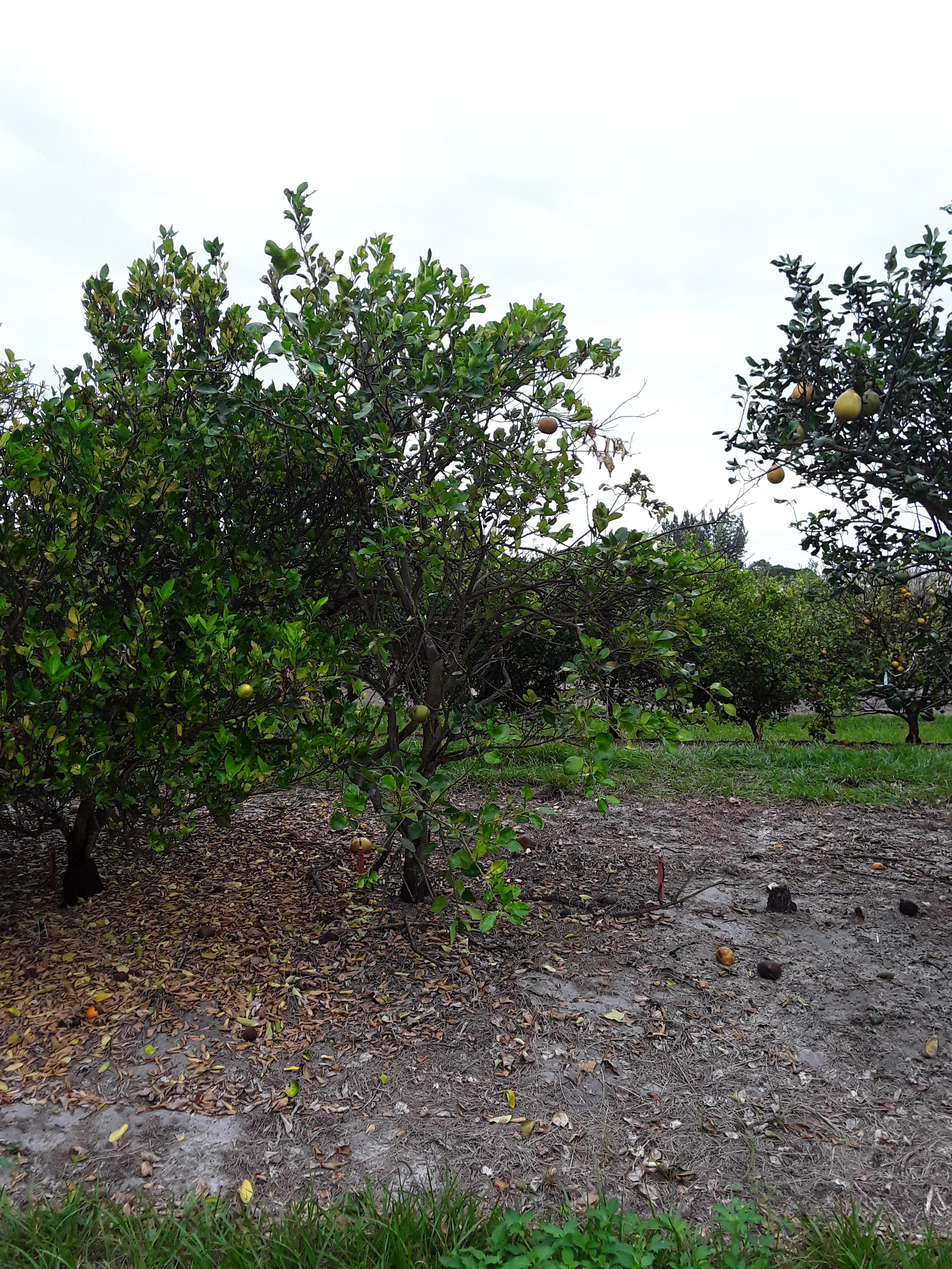fruit_on_ground: (832, 385, 864, 423), (772, 416, 807, 449), (785, 377, 820, 408), (857, 384, 884, 417), (763, 461, 789, 486), (535, 413, 561, 436), (234, 679, 257, 701), (408, 703, 432, 724), (915, 615, 927, 627), (890, 659, 901, 669), (896, 664, 905, 674), (902, 592, 913, 600), (863, 617, 871, 626), (809, 686, 818, 694)
fruit_on_tree: (756, 957, 784, 981), (348, 834, 374, 854), (714, 944, 737, 966), (196, 922, 219, 940), (238, 1024, 258, 1043), (517, 832, 538, 850), (84, 1003, 100, 1020), (871, 858, 887, 870), (0, 846, 13, 860), (66, 803, 81, 815), (192, 870, 206, 881)
